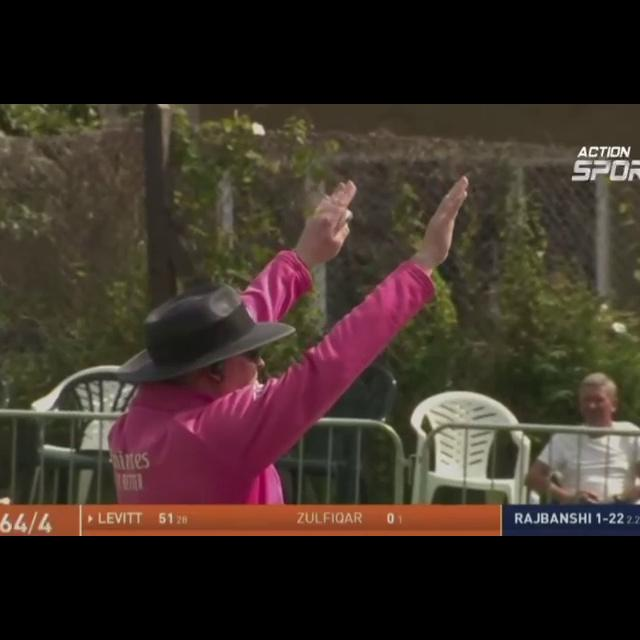umpire: (83, 137, 494, 501)
